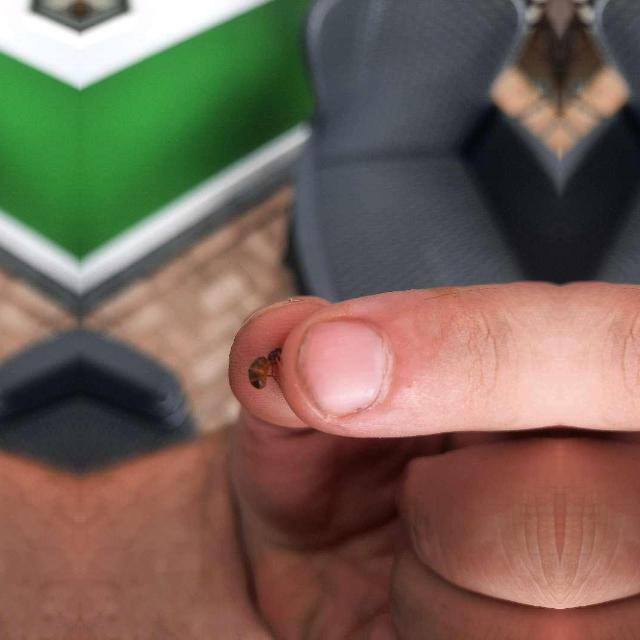Lasius: (247, 339, 283, 389)
